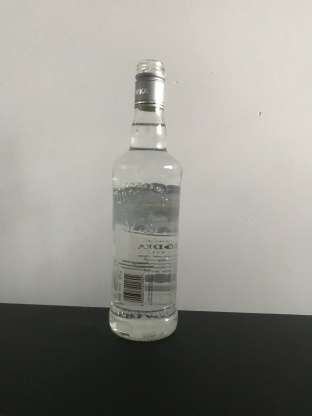nakretka: (132, 56, 167, 113)
